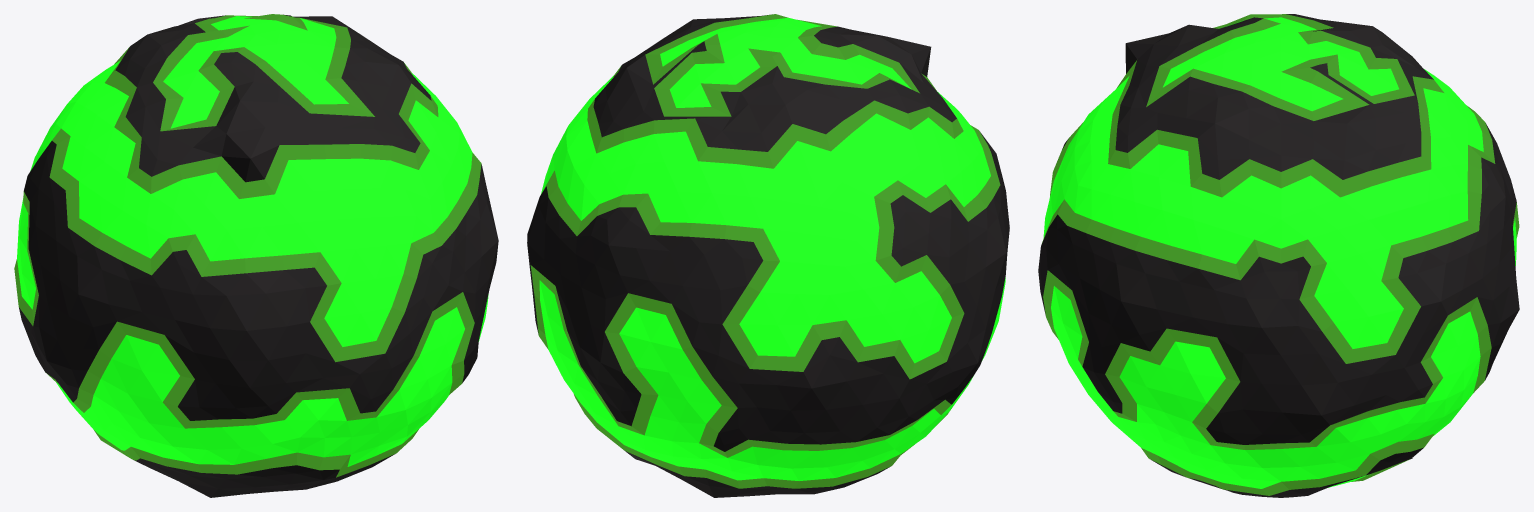
File: RadyoaktifGezegen.fbx
3 views of the same model, side by side, from view 1: azimuth 30°, elevation 25°; view 2: azimuth 150°, elevation 25°; view 3: azimuth 270°, elevation 25° (orthographic).
Parts seen in each view (by area): view 1: Icosphere; view 2: Icosphere; view 3: Icosphere.
Boxes of the visible parts, bbox=[...] form: Icosphere: bbox=[14, 14, 498, 497]; Icosphere: bbox=[527, 14, 1009, 497]; Icosphere: bbox=[1038, 14, 1519, 497].
Bounding box in the file's own units: 203 × 200 × 202.
